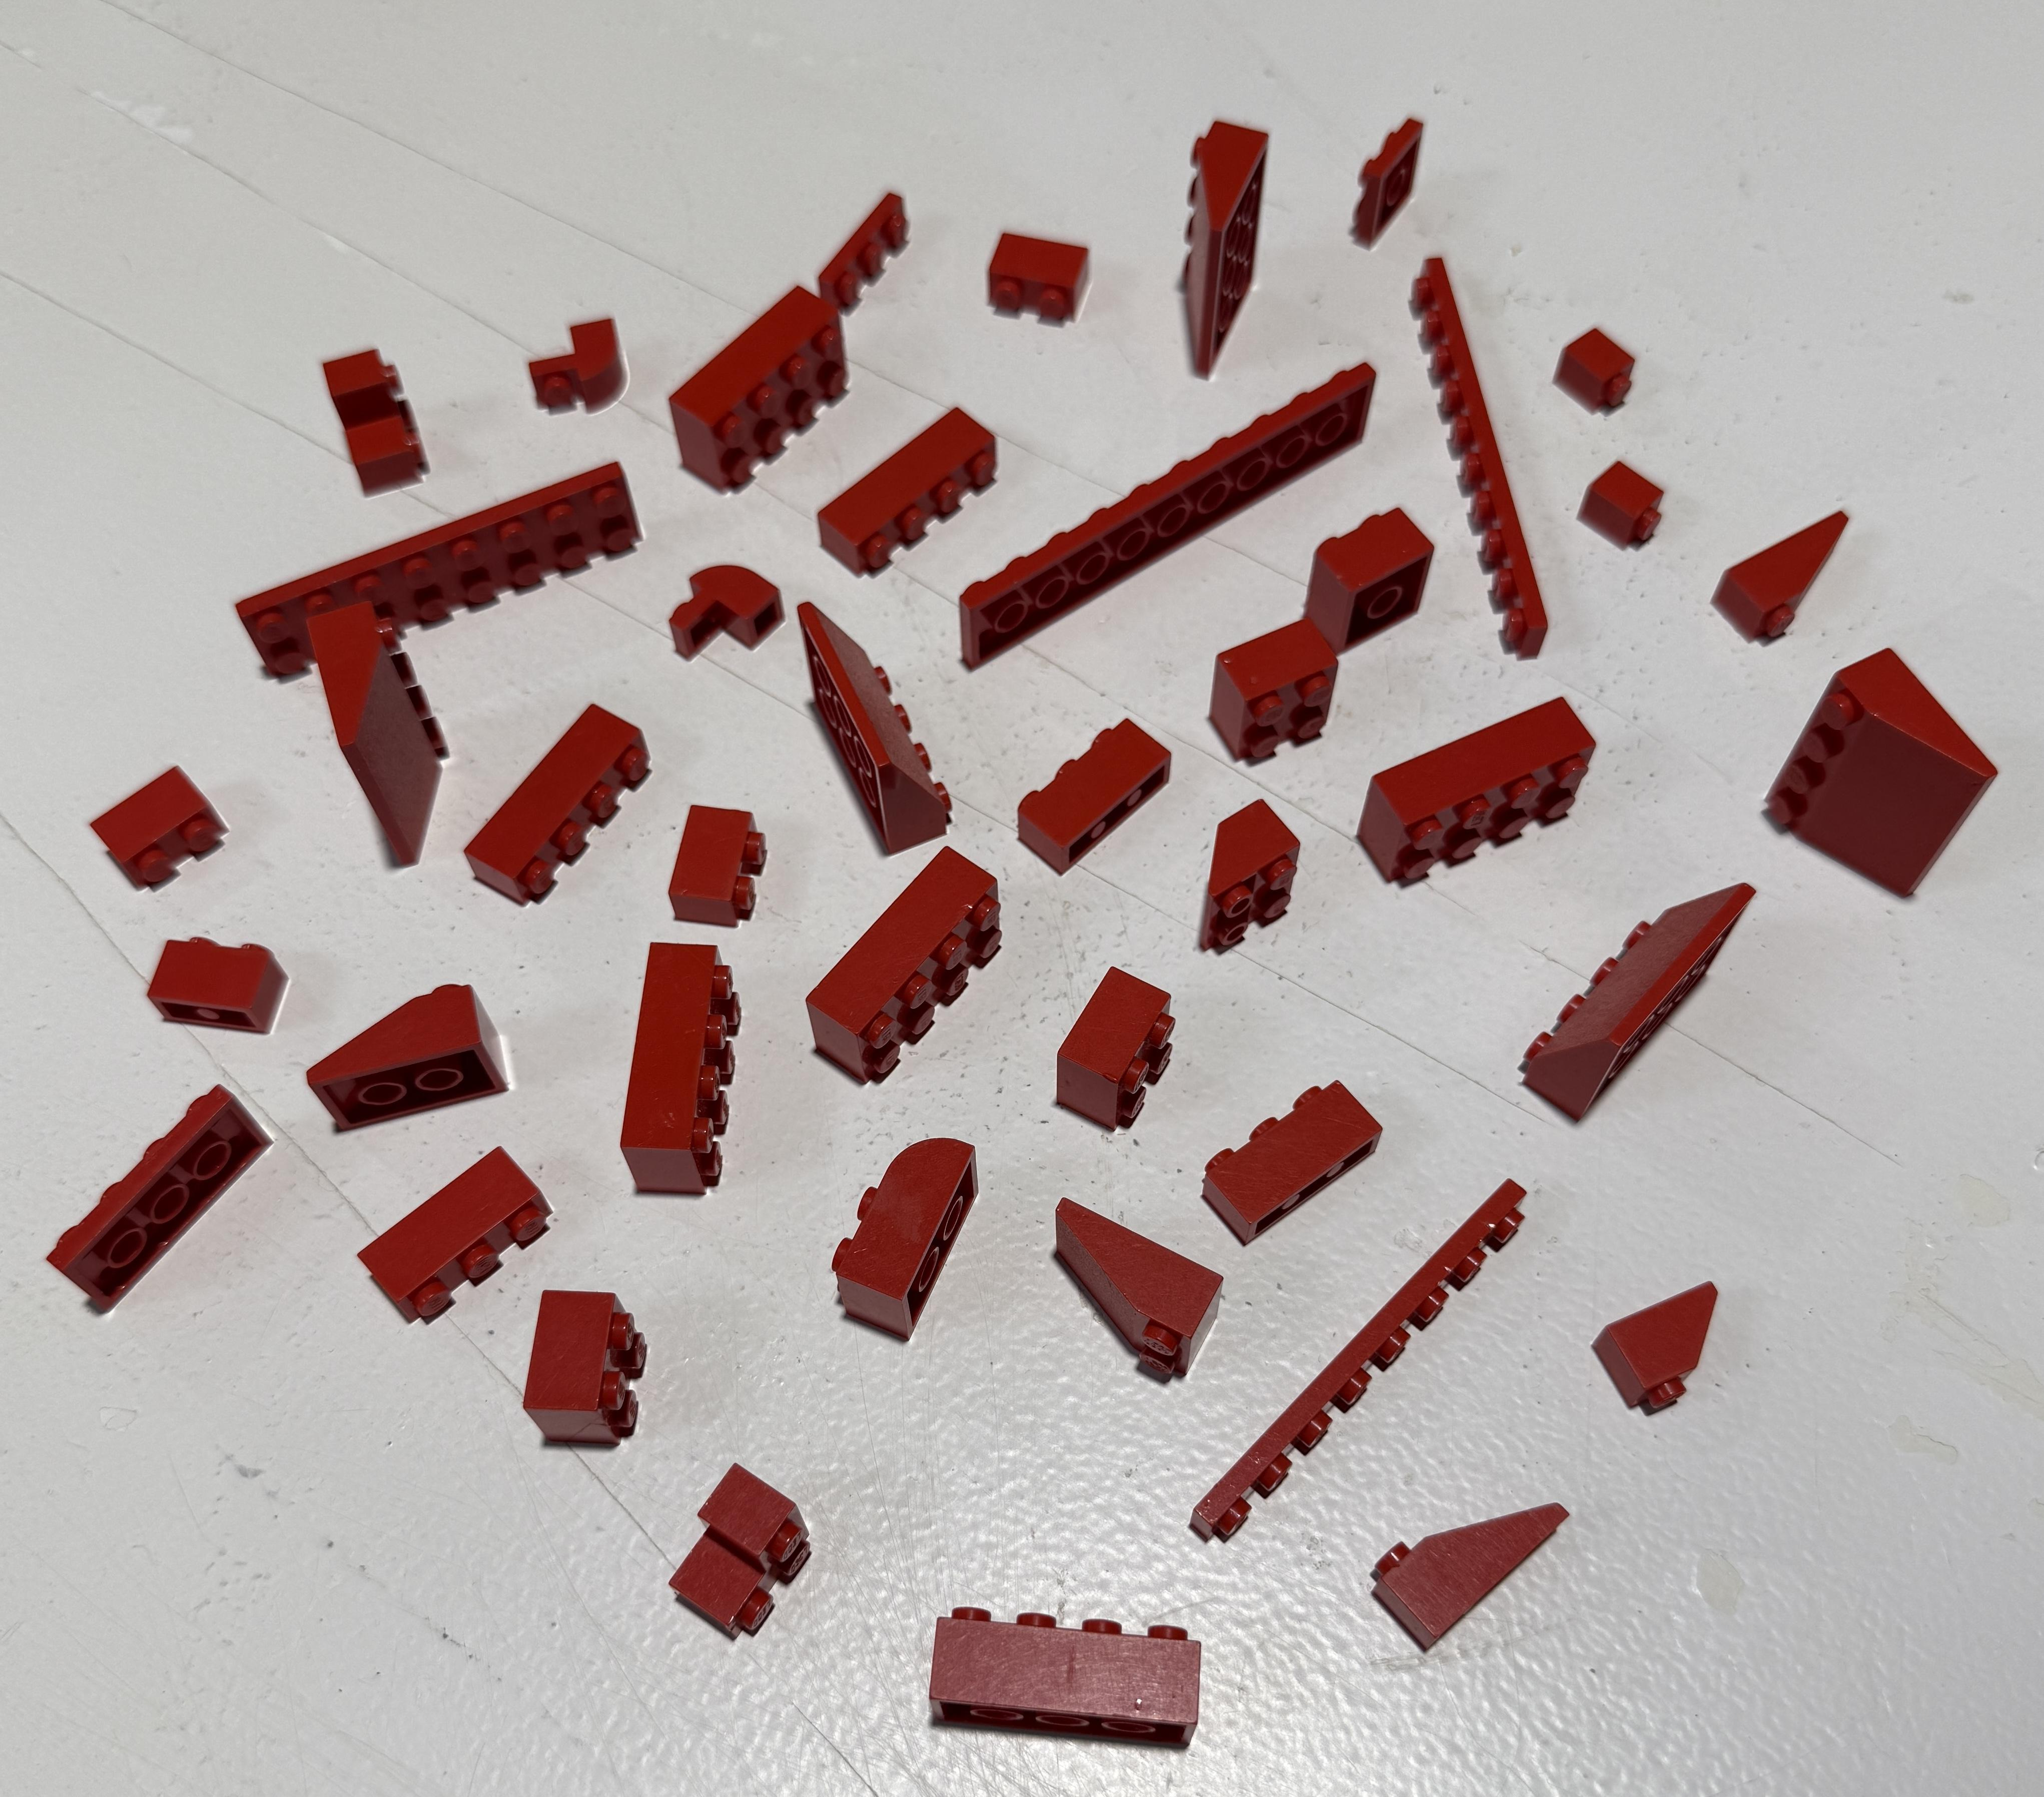Special_02: (1006, 1182, 1231, 1397), (290, 959, 521, 1145), (1368, 1479, 1587, 1672)
brick_1x1: (1570, 448, 1693, 570), (1549, 313, 1648, 426)
brick_1x2: (120, 911, 320, 1048), (78, 749, 242, 904), (650, 782, 780, 942), (968, 209, 1118, 335)
brick_1x3: (309, 1116, 584, 1335), (1189, 1051, 1404, 1255), (998, 709, 1194, 881)
brick_1x4: (803, 384, 1022, 589)
brick_2x2: (1038, 949, 1199, 1144), (1196, 594, 1350, 789), (513, 1277, 662, 1462), (1298, 487, 1448, 659)
brick_2x4: (780, 822, 1017, 1100), (1344, 683, 1604, 932), (596, 932, 765, 1210), (659, 278, 864, 501)
plate_2x2: (1328, 103, 1446, 259)
